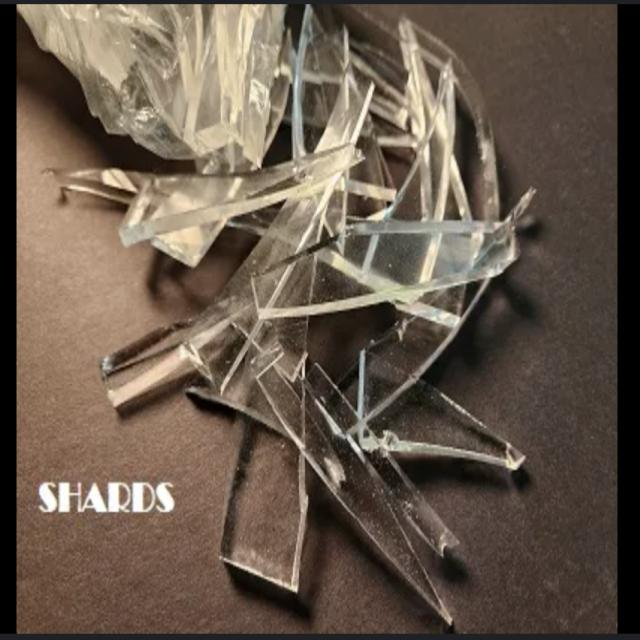PecahanKaca: (25, 2, 535, 631), (36, 476, 176, 516)
